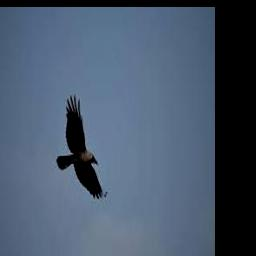Crow: (56, 94, 102, 199)
